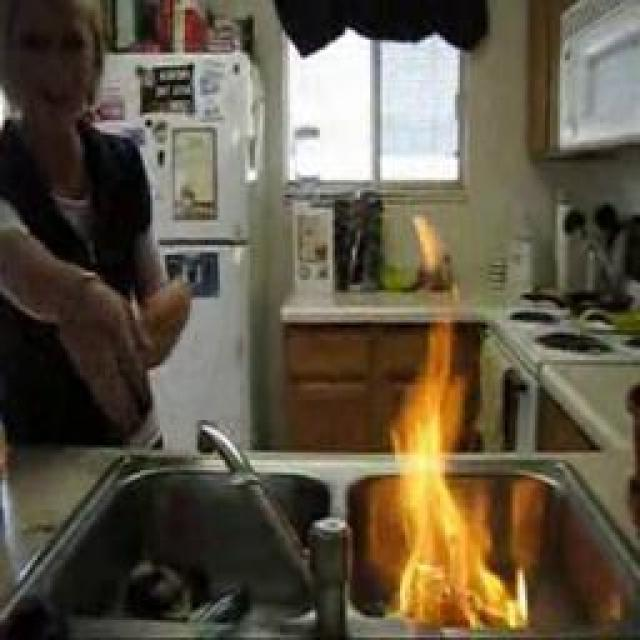Fire: (390, 306, 522, 629)
